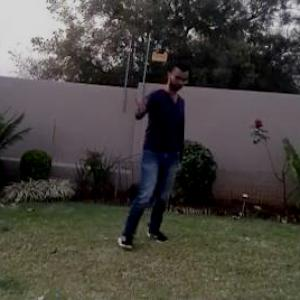takeoff-hand: (122, 82, 152, 116)
